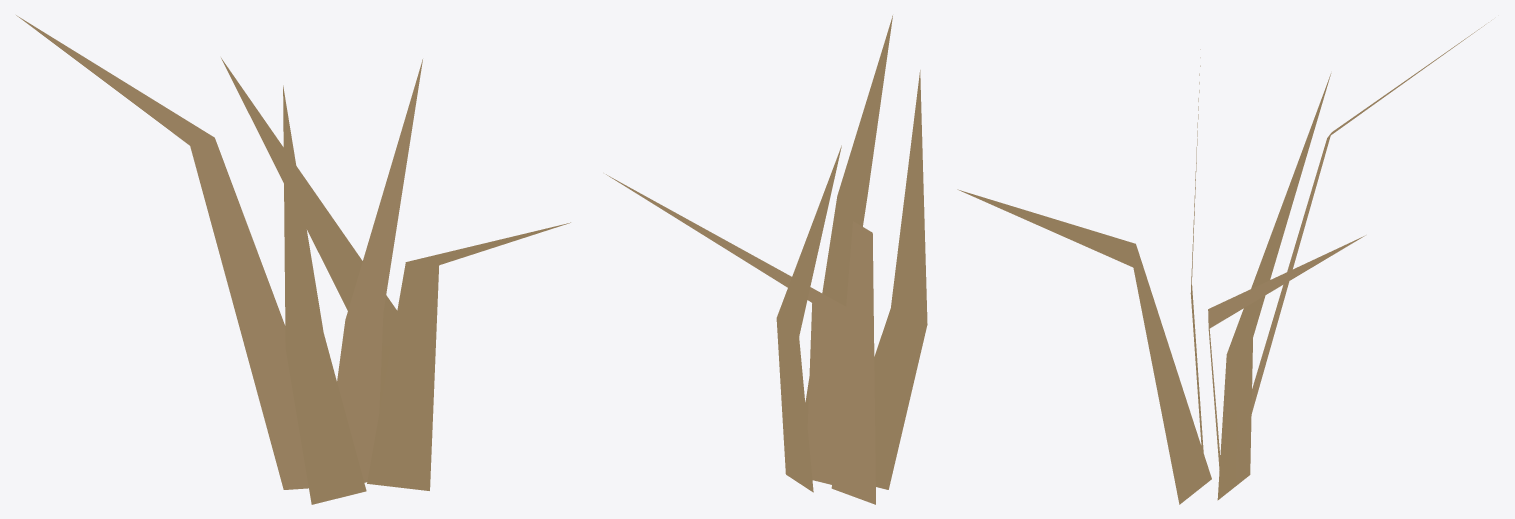
Rendered from Grass_g_OneS_01.fbx.
The picture shows the model from 3 angles, left to right: view 1: azimuth 30°, elevation 25°; view 2: azimuth 150°, elevation 25°; view 3: azimuth 270°, elevation 25°; orthographic projection. The views are drawn at different scales.
Parts seen in each view (by area): view 1: Grass_g_OneS_01; view 2: Grass_g_OneS_01; view 3: Grass_g_OneS_01.
Boxes of the visible parts, bbox=[...] form: Grass_g_OneS_01: bbox=[16, 15, 570, 504]; Grass_g_OneS_01: bbox=[606, 15, 927, 504]; Grass_g_OneS_01: bbox=[957, 20, 1491, 504].
Bounding box in the file's own units: 0.417 × 0.5097 × 0.6278.
